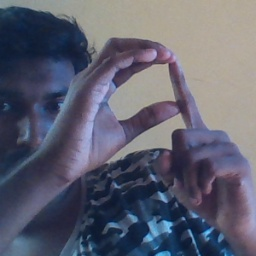P: (69, 17, 238, 207)
